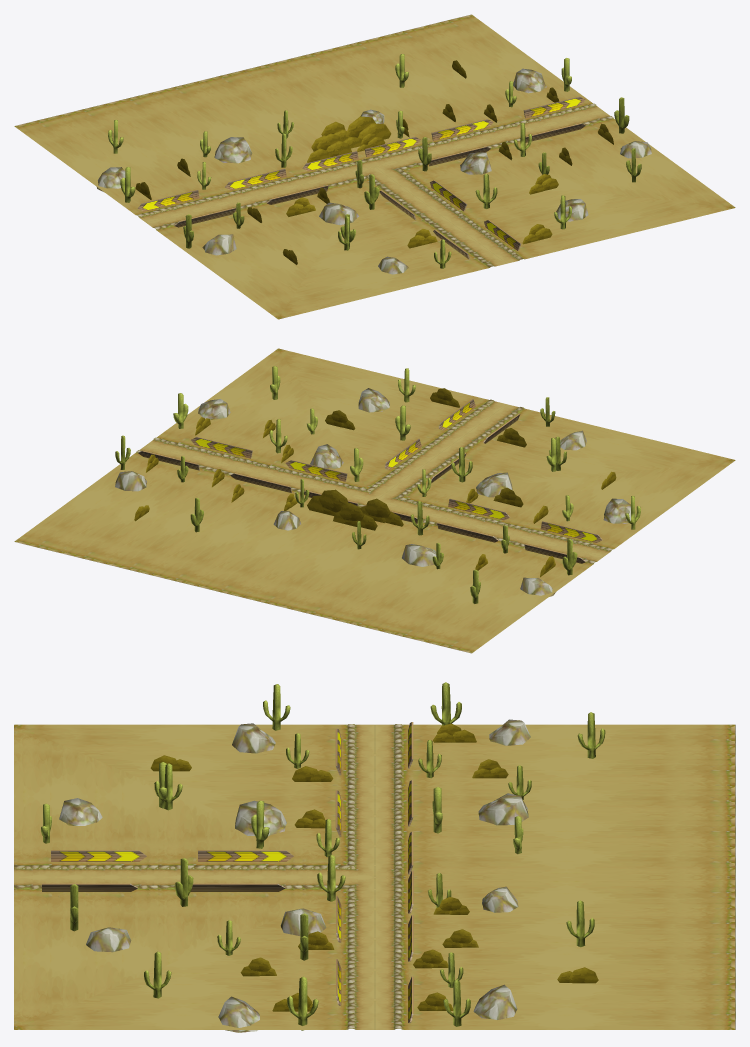
Rendered from DesertRoad01_Both.FBX.
3 renders of one model, top to bottom at view 1: azimuth 30°, elevation 25°; view 2: azimuth 150°, elevation 25°; view 3: azimuth 270°, elevation 25°, orthographic. The views are drawn at different scales.
Parts seen in each view (by area): view 1: Road, Stone (×5), Fence (×5), Bush (×2); view 2: Road, Stone (×7), Fence (×4), Bush (×3); view 3: Road, Stone (×10), Fence (×4), Cactus (×4), Bush.
Boxes of the visible parts, x1,y1,x2,y2 form: Road: [14, 14, 735, 319]; Stone (×5): [202, 68, 546, 255]; Fence (×5): [137, 96, 585, 211]; Bush (×2): [307, 116, 391, 162]; Road: [14, 348, 735, 653]; Stone (×7): [115, 388, 635, 566]; Fence (×4): [191, 437, 602, 542]; Bush (×3): [307, 489, 403, 530]; Road: [14, 724, 735, 1029]; Stone (×10): [59, 719, 530, 1032]; Fence (×4): [42, 850, 293, 891]; Cactus (×4): [287, 682, 594, 1030]; Bush: [433, 723, 476, 742].
Bounding box in the file's own units: 10000 × 916 × 10000.
